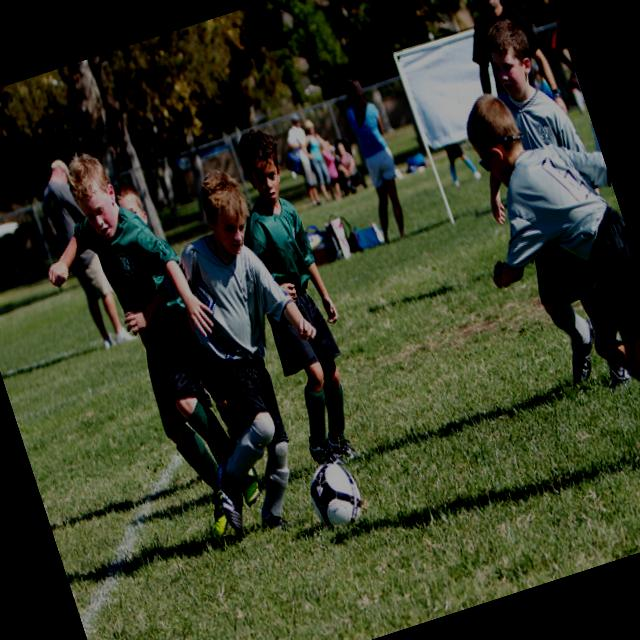Vehicle: (0, 209, 21, 251)
